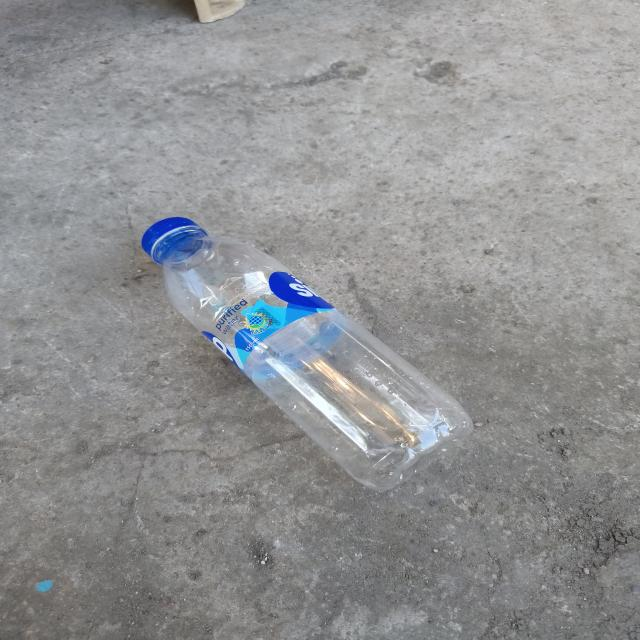Bottle: (142, 217, 473, 491)
